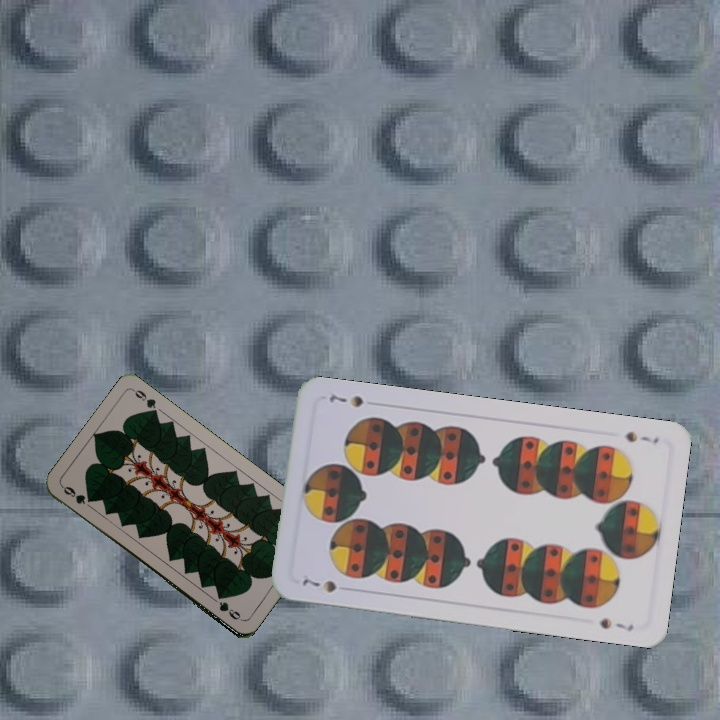G9: (57, 482, 88, 507)
S7: (298, 574, 339, 595), (621, 427, 661, 446)
